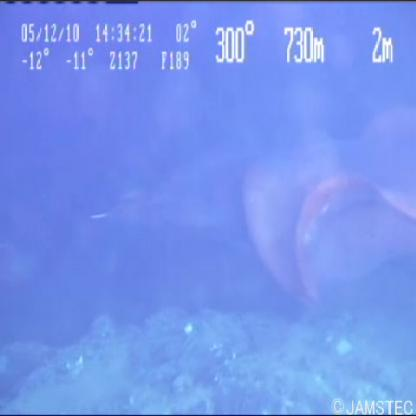Bio: (84, 98, 416, 319)
